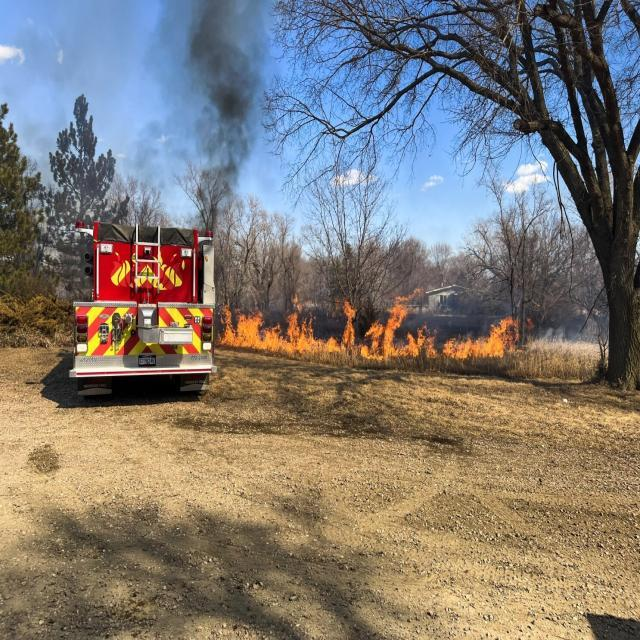Fire: (220, 296, 538, 364)
Smoke: (154, 0, 286, 243)
